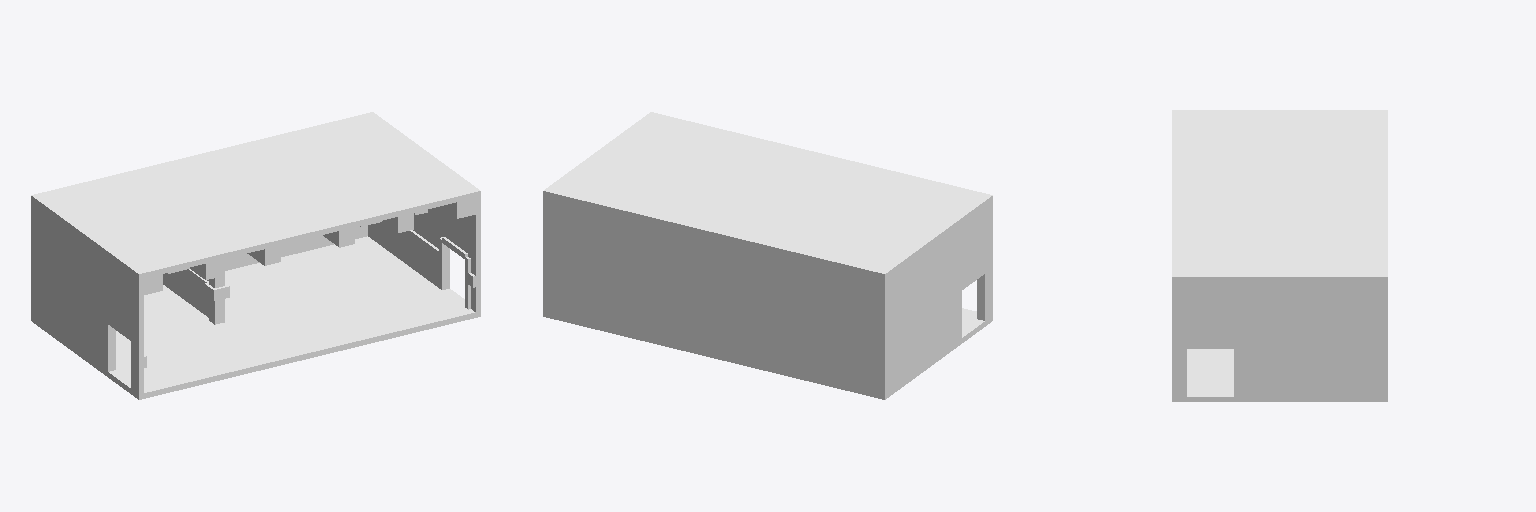
File: Volt_1.obj
The picture shows the model from 3 angles: view 1: azimuth 30°, elevation 25°; view 2: azimuth 150°, elevation 25°; view 3: azimuth 270°, elevation 25°; orthographic projection.
Visible parts, largest first — view 1: Apteca_1lvl; view 2: Apteca_1lvl; view 3: Apteca_1lvl.
Boxes of the visible parts, box(x1,y1,x2,y2) form: Apteca_1lvl: box(31, 112, 480, 399); Apteca_1lvl: box(543, 112, 992, 399); Apteca_1lvl: box(1172, 110, 1387, 401).
Size of the model in its own units: 12.8 by 4.5 by 7.